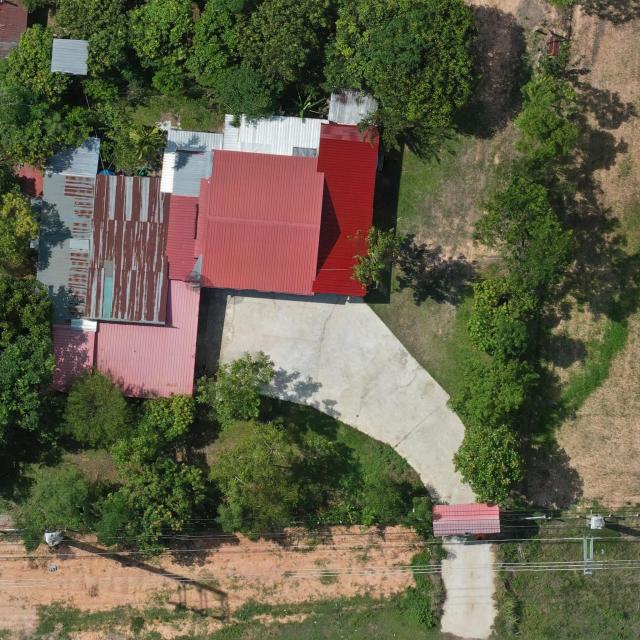tree: (319, 0, 480, 159), (184, 0, 334, 128), (206, 420, 340, 544), (469, 159, 578, 284), (90, 455, 208, 558), (0, 57, 96, 178), (108, 391, 195, 474), (13, 463, 90, 555), (54, 361, 133, 447), (194, 349, 275, 432), (449, 354, 542, 426), (451, 425, 529, 508), (0, 333, 59, 436), (4, 22, 74, 106), (467, 276, 540, 356), (54, 0, 129, 75), (513, 75, 579, 158), (126, 0, 190, 70), (0, 177, 44, 270), (0, 272, 55, 340), (347, 226, 408, 287), (360, 475, 408, 528), (286, 84, 327, 121), (532, 38, 570, 76), (128, 127, 165, 161), (150, 64, 186, 96)
